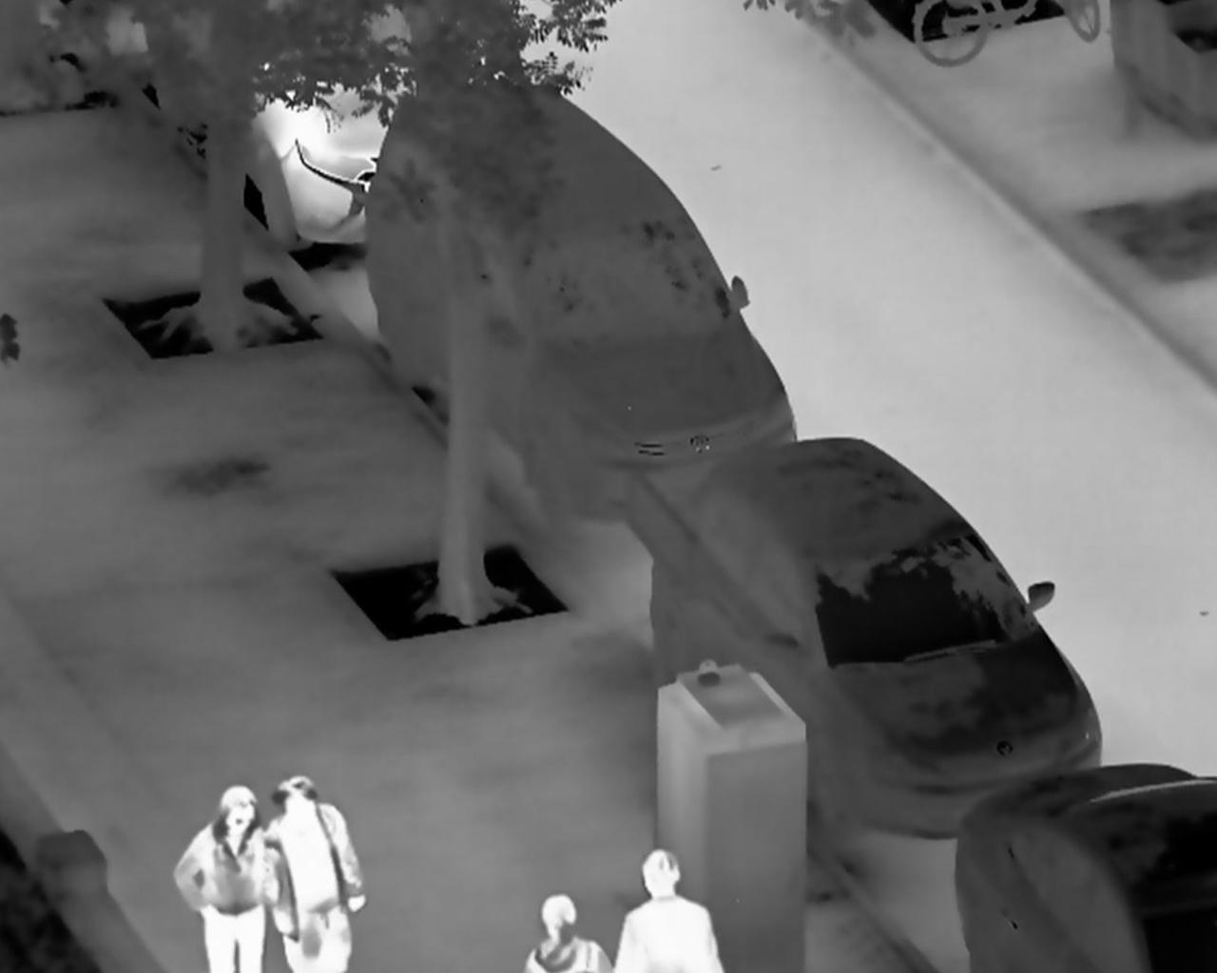person: (265, 775, 366, 973), (169, 783, 264, 973), (608, 846, 722, 973), (513, 874, 609, 973)
